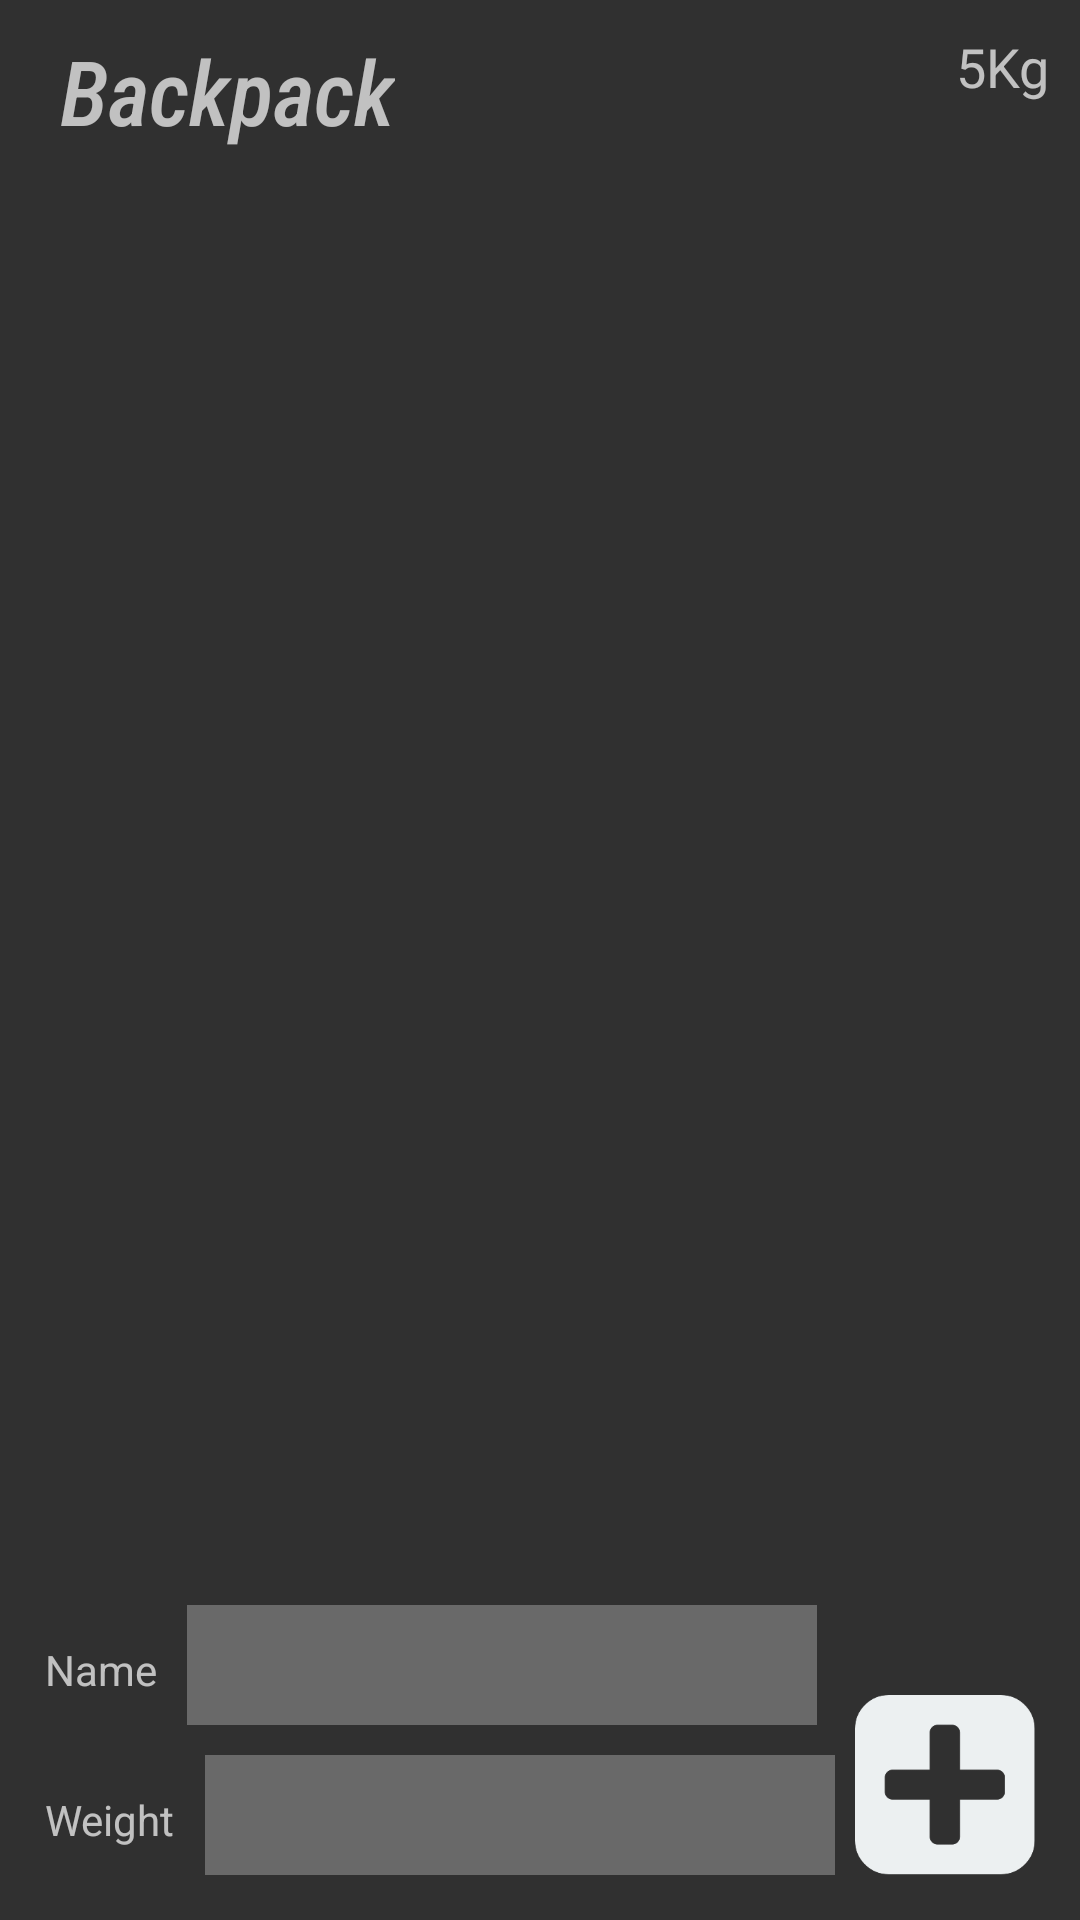

Where icons sit on this 1080px x 1920px app screen, as [x1, y1, x2, y2]:
plus: [855, 1695, 1035, 1875]
